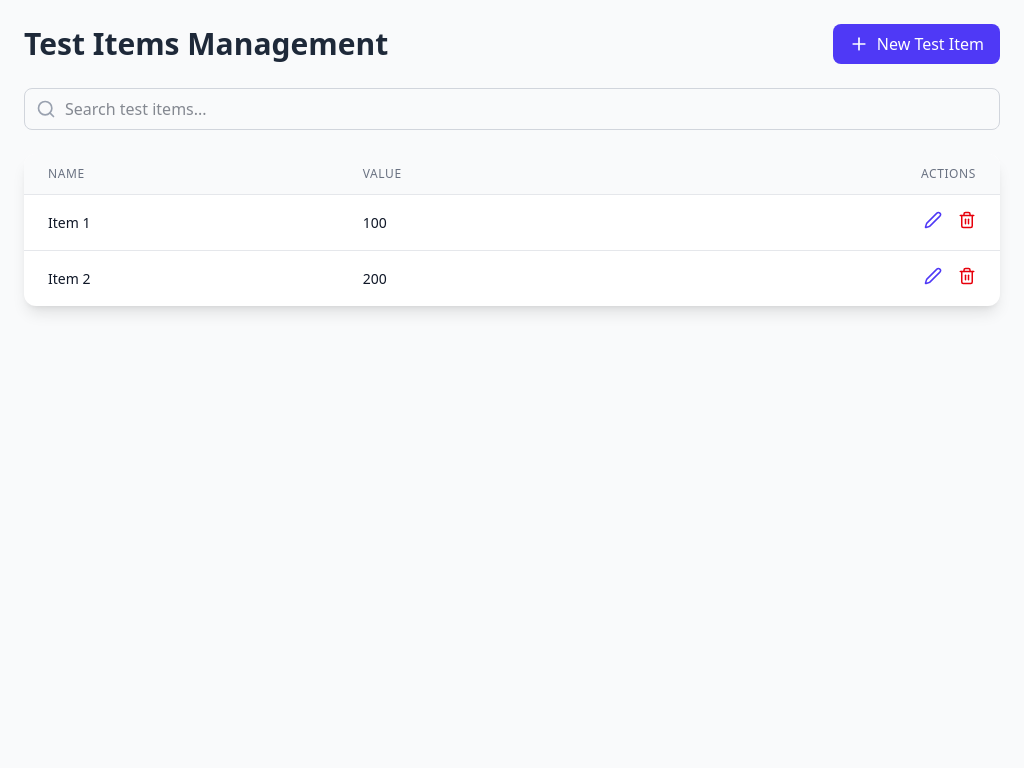
Test: CrudManager › deletes an item and refreshes the list from the server
The width and height of the screenshot is (1024, 768).
Expected: the text "Item 1" is shown, [24,194,339,250]
Click the button named "Delete Test Item" in the row of "Item 1": (967, 220) [958,211,976,229]
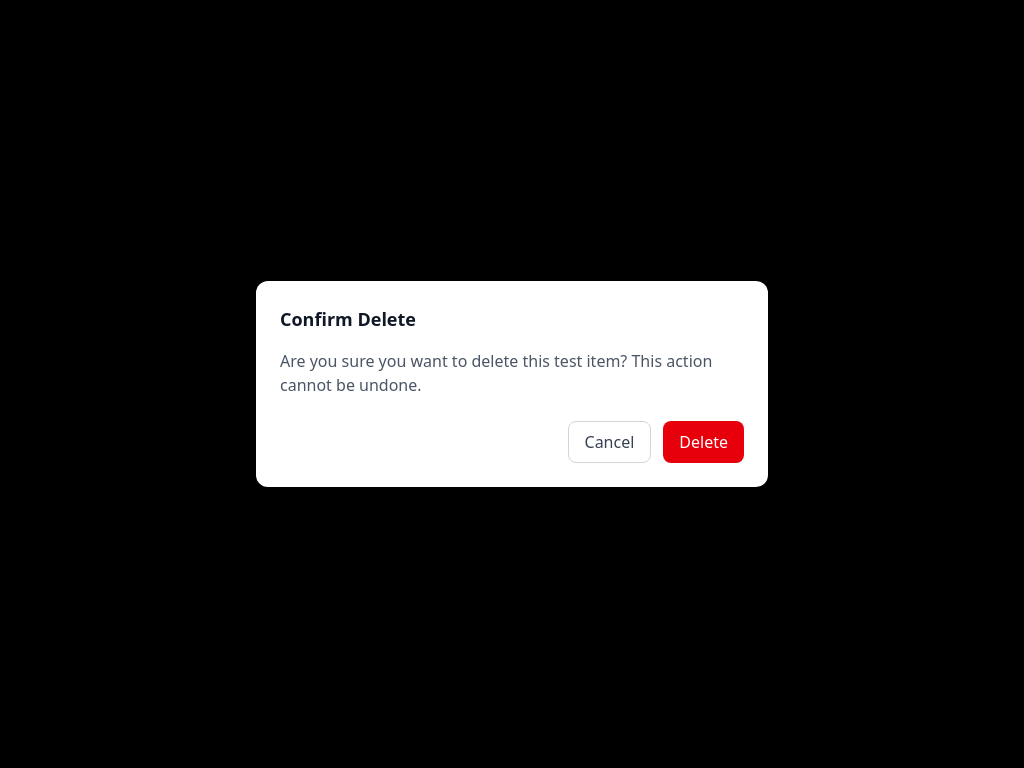
Click the button "Delete": (704, 442) [663,421,744,463]
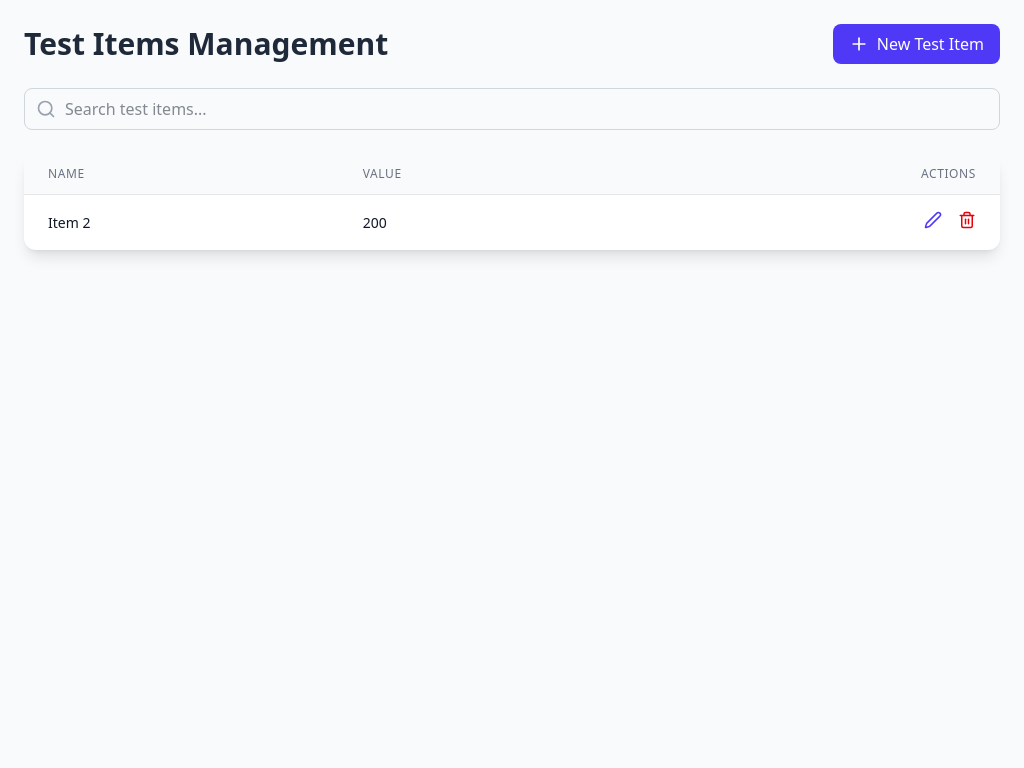
Expected: the text "Item 2" is shown, [24,194,339,250]
Result: the text "Item 1" is gone
